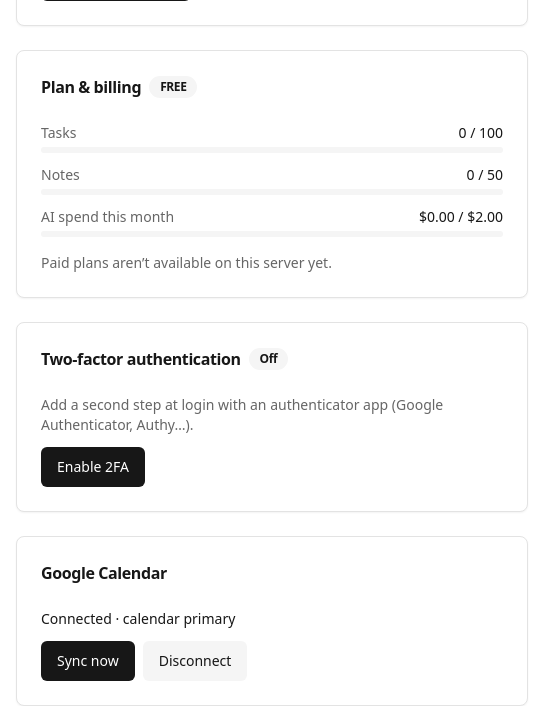
Test: Google Calendar settings (C1.3) › syncs on demand when connected
(page scrolled)
Click the button "Sync now" at (88, 661), box [41,641,135,681]
(page scrolled)
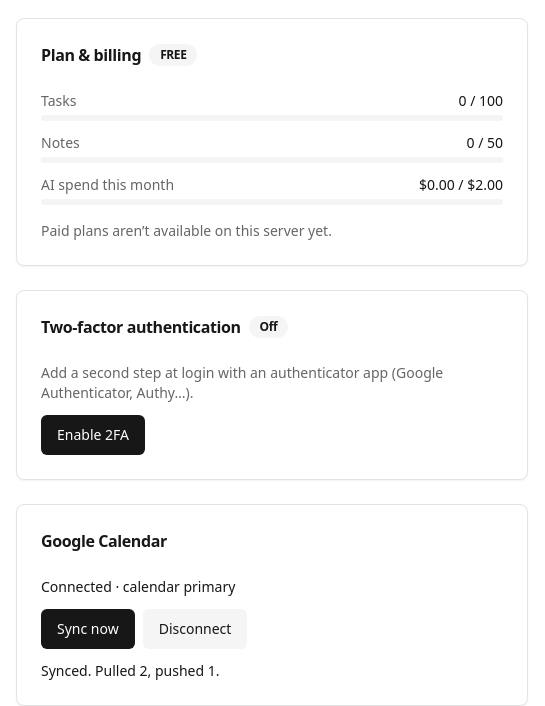
expect the text "Synced. Pulled 2, pushed 1." is shown: met, box [41,661,220,680]
